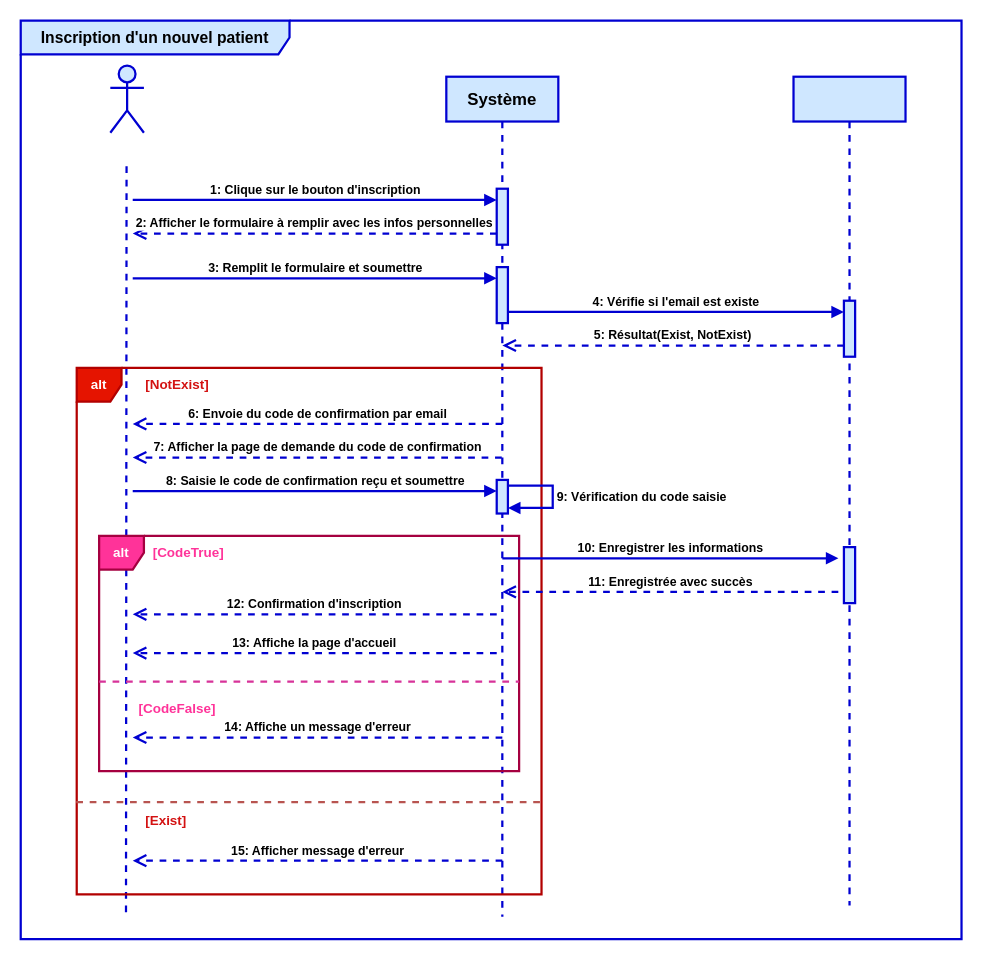
The diagram is 981 pixels wide and 959 high, and some of its shapes have lost their labels. The box of each missing label's shape, as (x1, y1, x2, y2) in pixels:
Patient: (109, 64, 144, 133)
SGBD: (792, 75, 906, 906)
